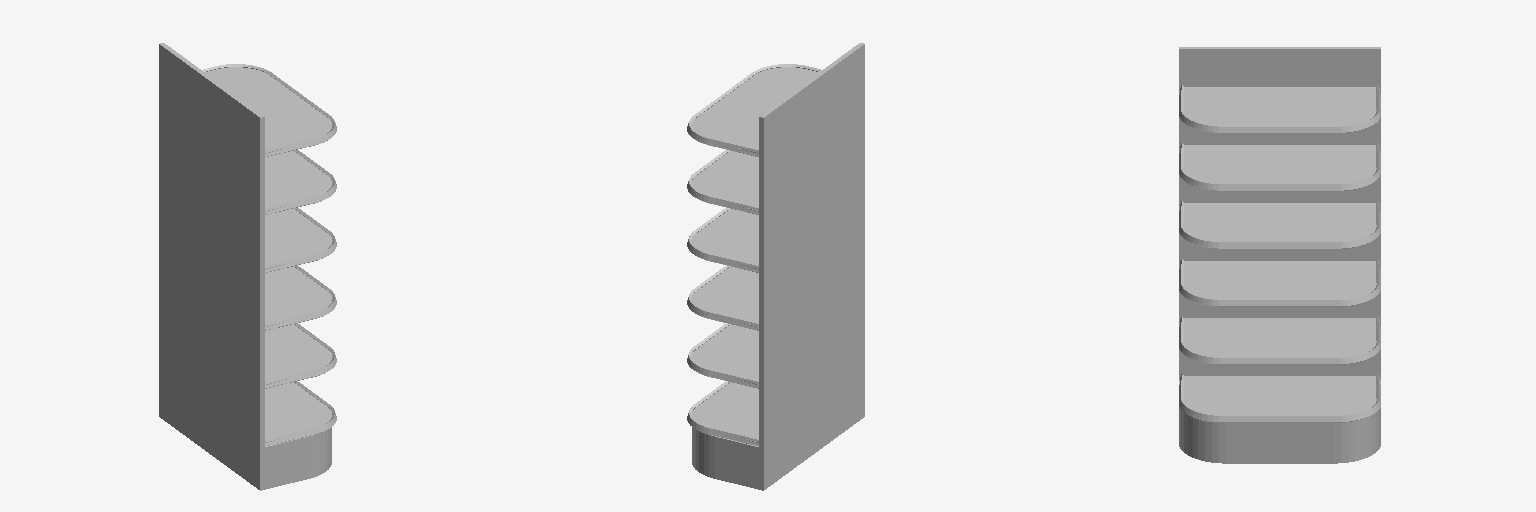
The model's file is Shelf_RoundCap_6.obj.
3 renders of one model, left to right at view 1: azimuth 30°, elevation 25°; view 2: azimuth 150°, elevation 25°; view 3: azimuth 270°, elevation 25°, orthographic.
Visible parts, largest first — view 1: Shelf_RoundCap_6_Cube.029; view 2: Shelf_RoundCap_6_Cube.029; view 3: Shelf_RoundCap_6_Cube.029.
Part boxes in pixels (bbox=[...]): Shelf_RoundCap_6_Cube.029: bbox=[159, 43, 336, 490]; Shelf_RoundCap_6_Cube.029: bbox=[687, 43, 864, 490]; Shelf_RoundCap_6_Cube.029: bbox=[1179, 47, 1380, 463].
Bounding box in the file's own units: 1.04 × 4 × 1.97.